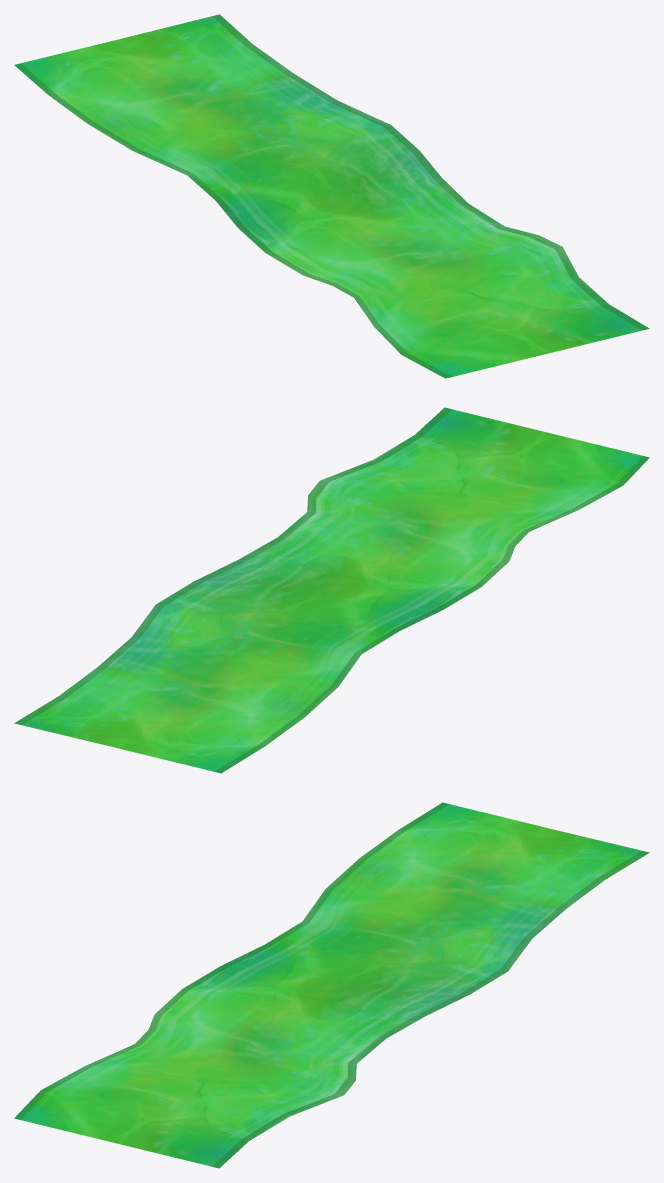
The model's file is Amazon04_Lu05.FBX.
The picture shows the model from 3 angles, top to bottom: view 1: azimuth 30°, elevation 25°; view 2: azimuth 150°, elevation 25°; view 3: azimuth 330°, elevation 25°; orthographic projection.
Visible parts, largest first — view 1: Amazon04_Lu05; view 2: Amazon04_Lu05; view 3: Amazon04_Lu05.
Boxes of the visible parts, <box> form: Amazon04_Lu05: <box>14,14,649,378</box>; Amazon04_Lu05: <box>14,407,649,773</box>; Amazon04_Lu05: <box>14,802,649,1168</box>.
Size of the model in its own units: 1102 by 0 by 3538.
